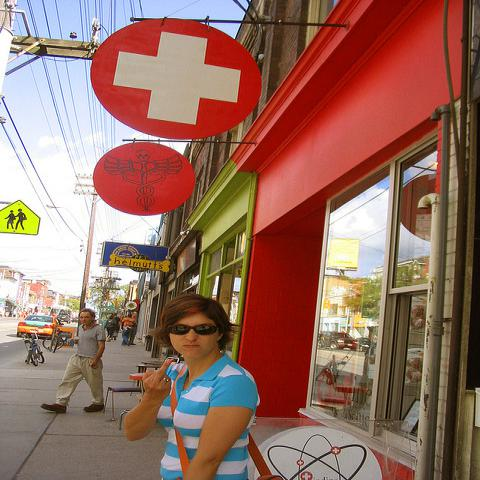car: (16, 314, 65, 339)
